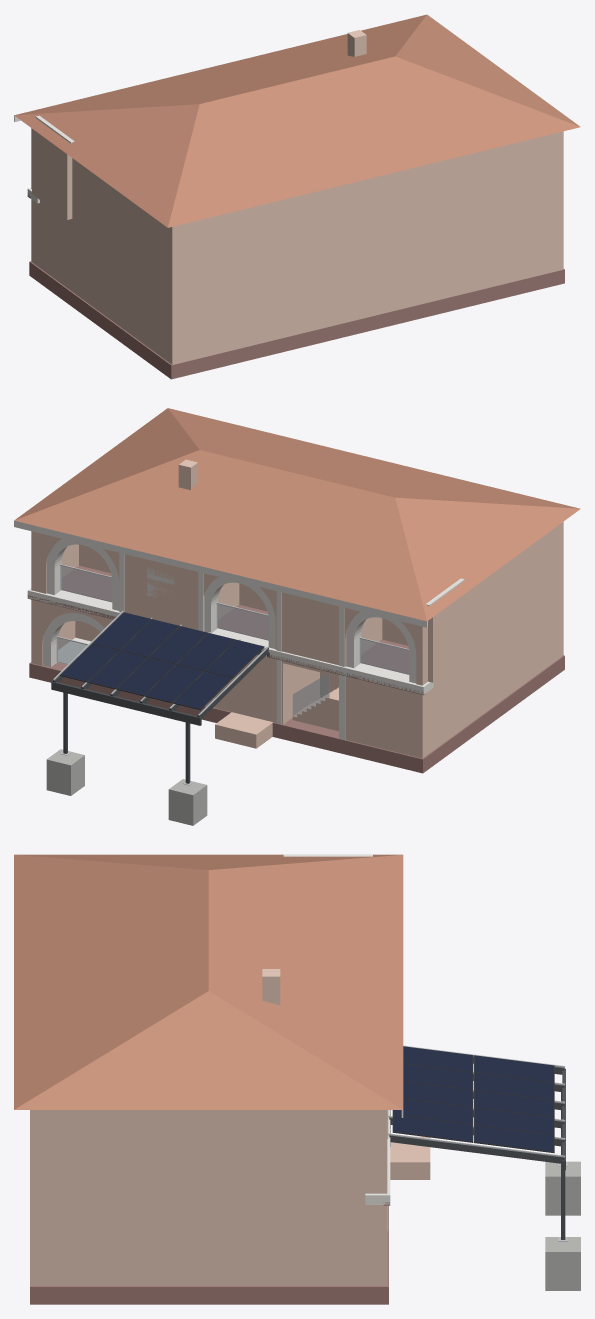
File: carport_model.glb
3 renders of one model, top to bottom at view 1: azimuth 30°, elevation 25°; view 2: azimuth 150°, elevation 25°; view 3: azimuth 270°, elevation 25°, orthographic. The views are drawn at different scales.
Parts seen in each view (by area): view 1: House_body, House_roof, House_plinth, House_loggia_side4_160, House_body_sideR, House_chimney; view 2: House_roof, House_body, House_facade_ff, House_facade_gf, House_plinth, House_slab, House_eave, House_loggia_side4_160, House_body_sideR, Footing_1, House_steps, Footing_2 (+31 smaller); view 3: House_roof, House_body, House_body_sideL, House_plinth, House_loggia_side0_1, Footing_2, Footing_1, House_steps, Panel_2_5_glass, Panel_2_2_glass, Panel_2_3_glass, Panel_2_4_glass (+11 smaller).
Boxes of the visible parts, x1,y1,x2,y2 form: House_body: (72,131,563,364); House_roof: (14,14,580,227); House_plinth: (29,261,564,379); House_loggia_side4_160: (32,129,72,219); House_body_sideR: (37,200,72,291); House_chimney: (347,30,366,56); House_roof: (14,408,580,621); House_body: (463,522,563,728); House_facade_ff: (31,531,427,685); House_facade_gf: (31,599,427,758); House_plinth: (29,655,564,773); House_slab: (27,588,433,694); House_eave: (14,520,427,627); House_loggia_side4_160: (428,591,468,682); House_body_sideR: (428,661,463,754); Footing_1: (168,779,207,825); House_steps: (215,712,272,748); Footing_2: (46,749,84,795); House_roof: (14,854,403,1109); House_body: (30,1110,283,1285); House_body_sideL: (283,1110,372,1285); House_plinth: (30,1205,388,1304); House_loggia_side0_1: (283,1198,372,1285); Footing_2: (545,1237,580,1290); Footing_1: (545,1161,580,1215); House_steps: (390,1136,430,1179); Panel_2_5_glass: (474,1125,553,1151); Panel_2_2_glass: (474,1073,553,1099); Panel_2_3_glass: (474,1090,553,1116); Panel_2_4_glass: (474,1108,553,1134).
Size of the model in its own units: 16.9 by 9.45 by 15.87.
